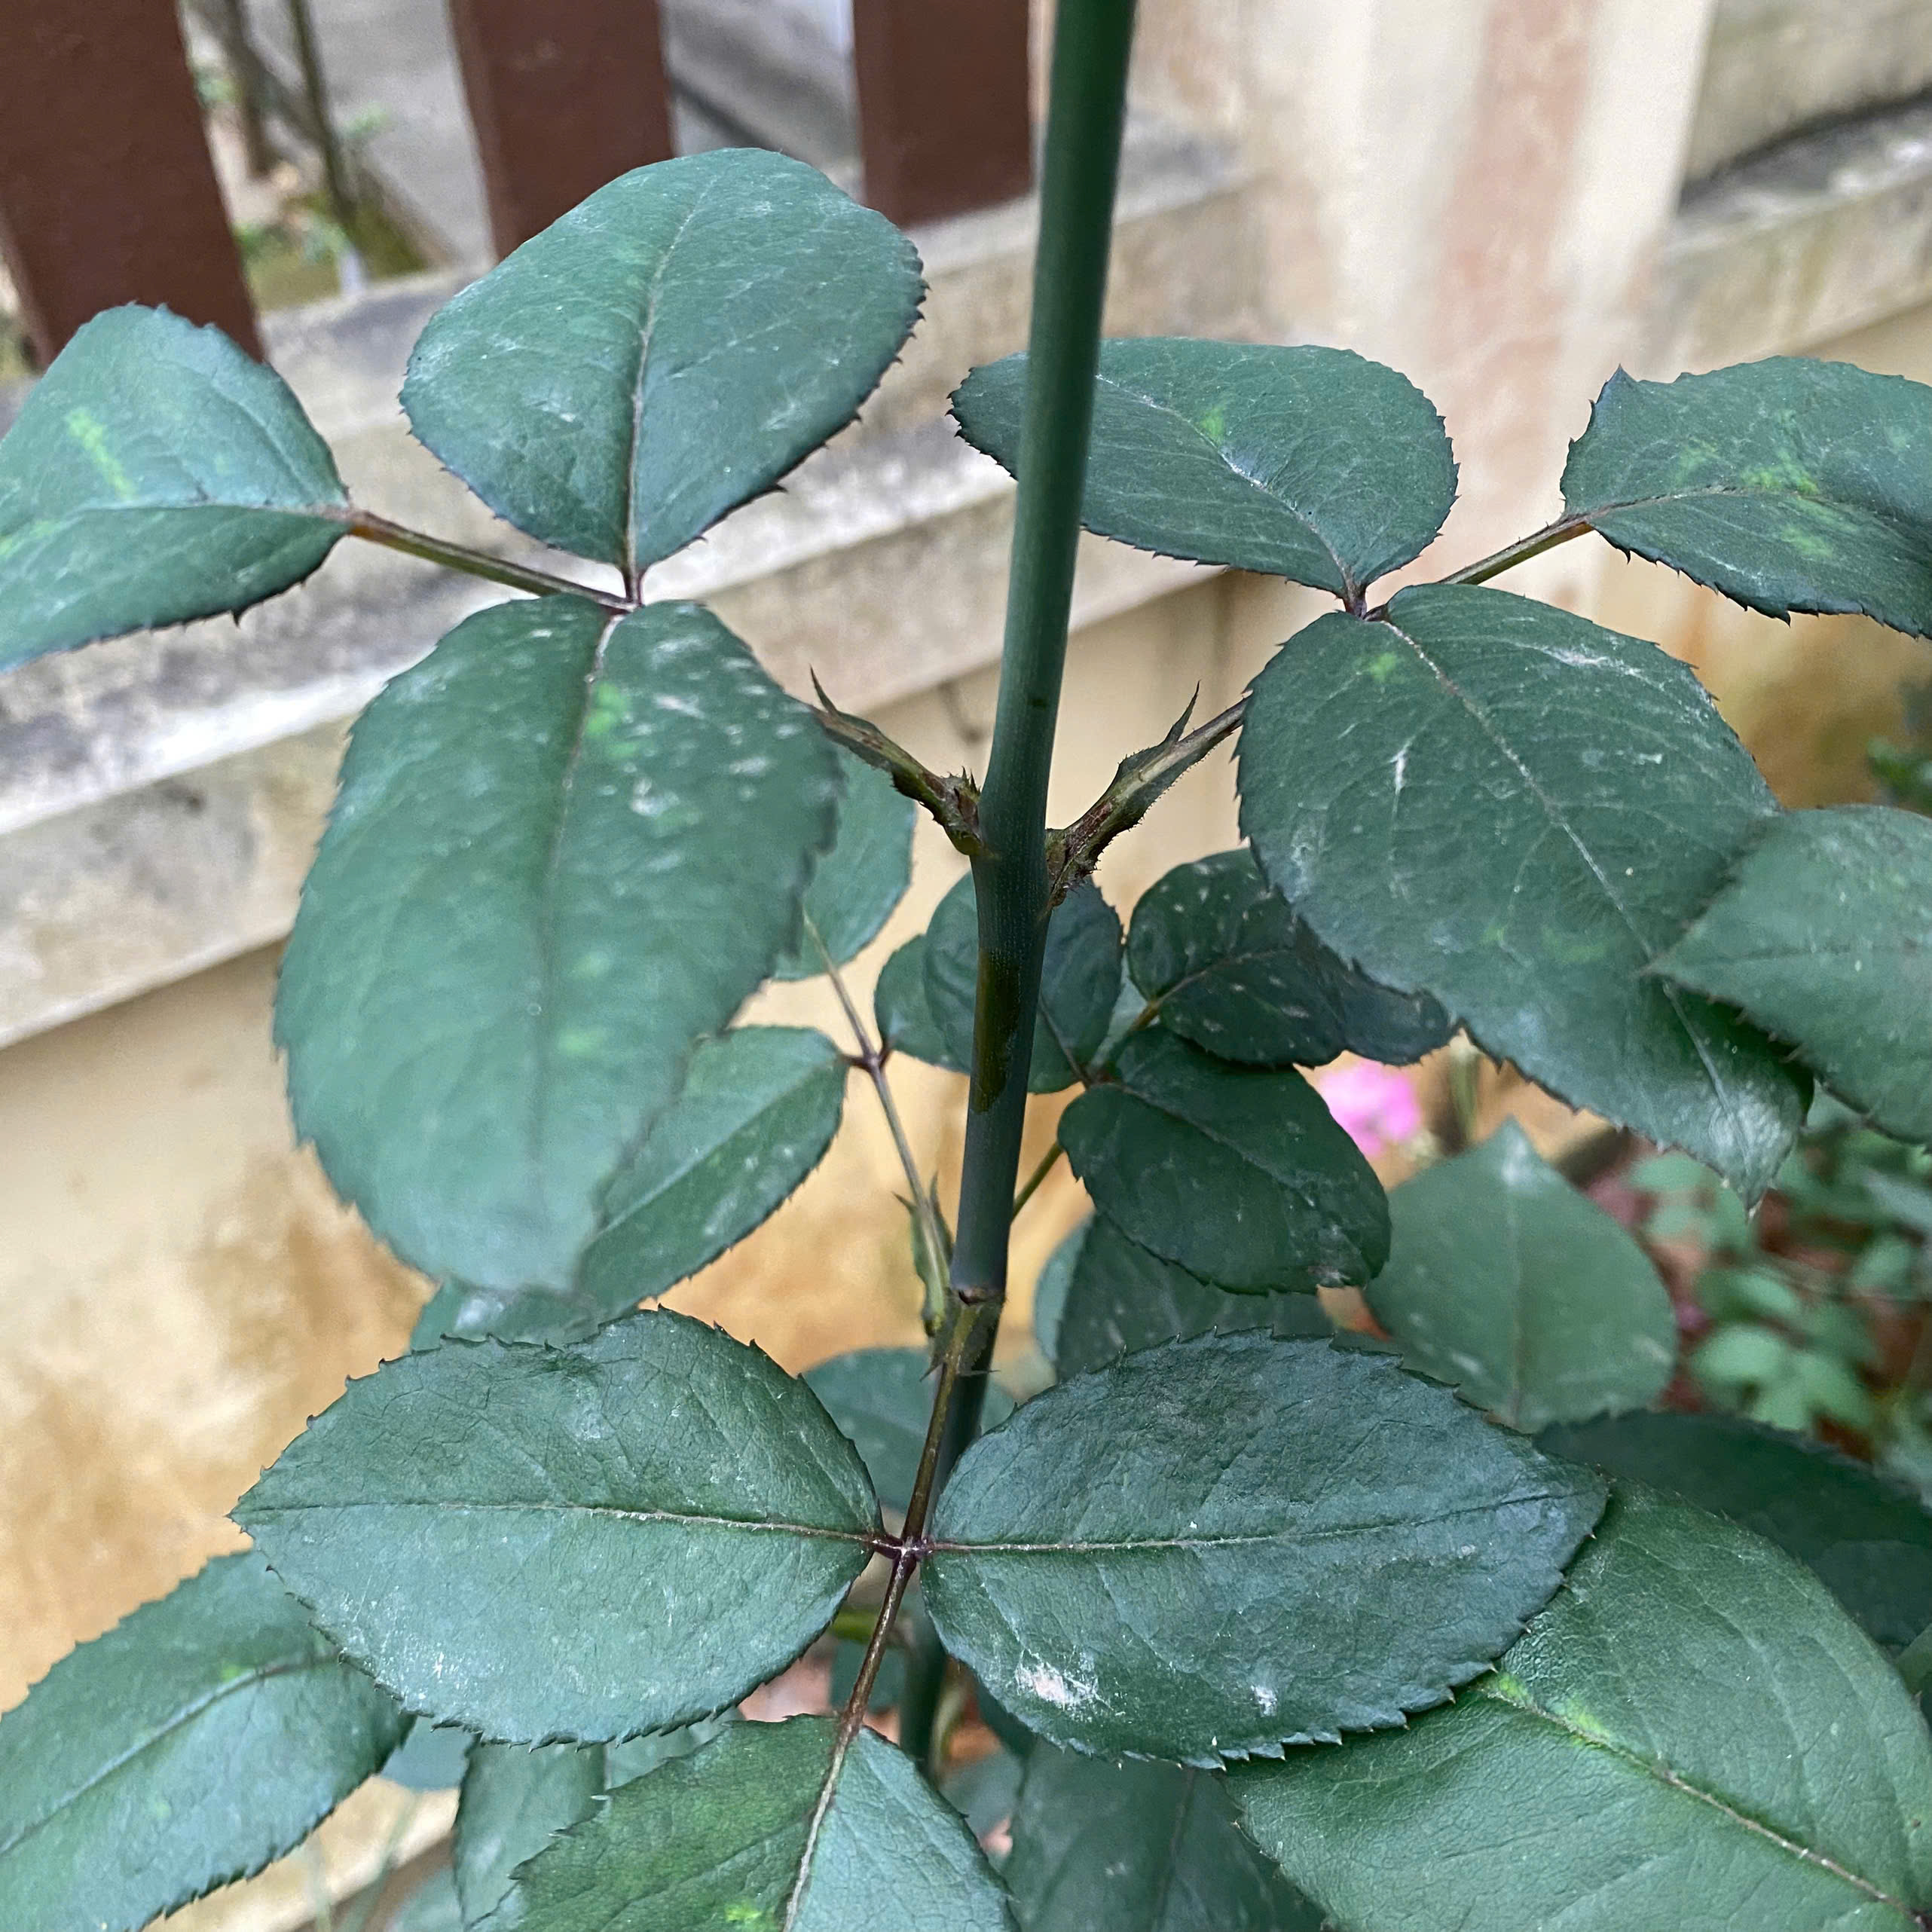hoa_hong_do: (637, 262, 1201, 1836)
